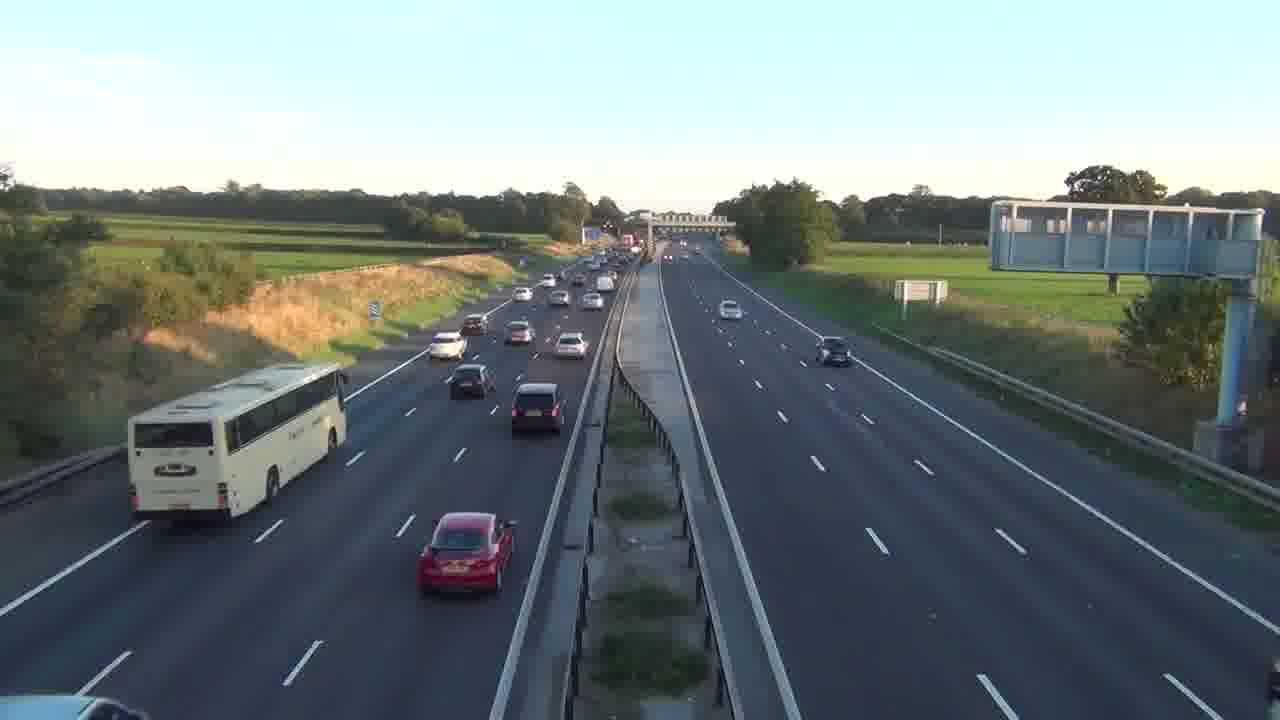bus: (127, 360, 349, 523)
car: (415, 511, 517, 597), (510, 381, 565, 434), (447, 364, 489, 399), (430, 331, 467, 361), (817, 337, 853, 367), (554, 331, 589, 359), (505, 318, 534, 345)
